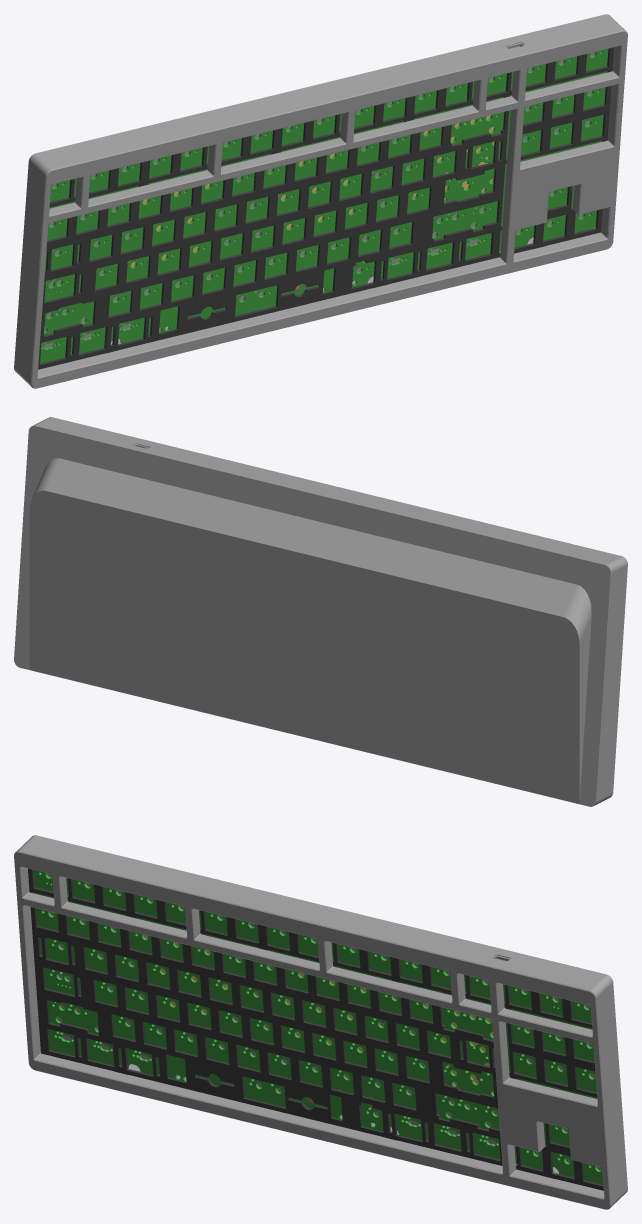
The model's file is OpenTKL.fbx.
3 renders of one model, top to bottom at view 1: azimuth 30°, elevation 25°; view 2: azimuth 150°, elevation 25°; view 3: azimuth 330°, elevation 25°, orthographic.
Parts seen in each view (by area): view 1: Body1 (×4); view 2: Body1 (×2); view 3: Body1 (×4).
Boxes of the visible parts, x1,y1,x2,y2 form: Body1 (×4): [14, 14, 627, 388]; Body1 (×2): [14, 417, 627, 806]; Body1 (×4): [14, 835, 627, 1209].
Bounding box in the file's own units: 356 × 137 × 34.87.
